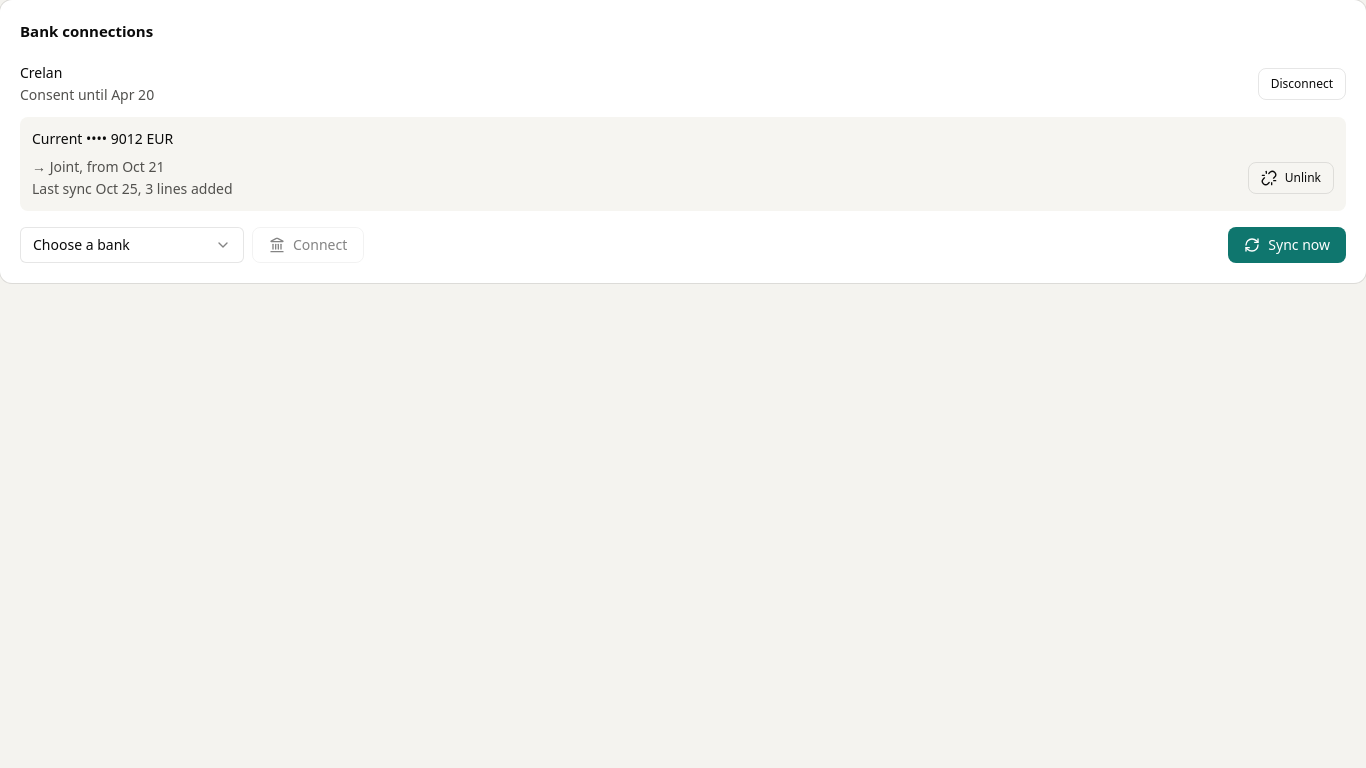
Test: BankConnections › syncs now and reports what was added
The width and height of the screenshot is (1366, 768).
Click the button "Sync now" at (1287,244), box [1228,226,1346,262]
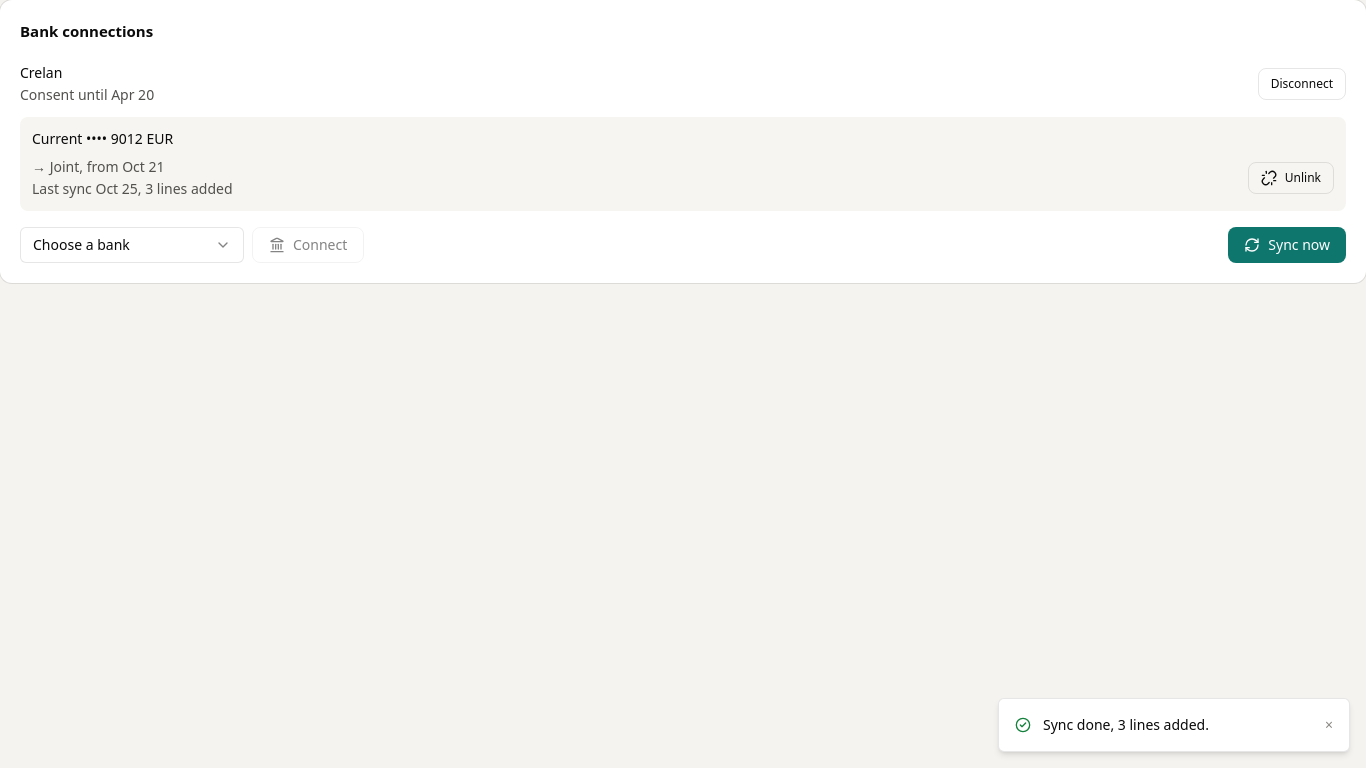
Result: the text "Sync done, 3 lines added." is shown at [1043,715,1209,734]
